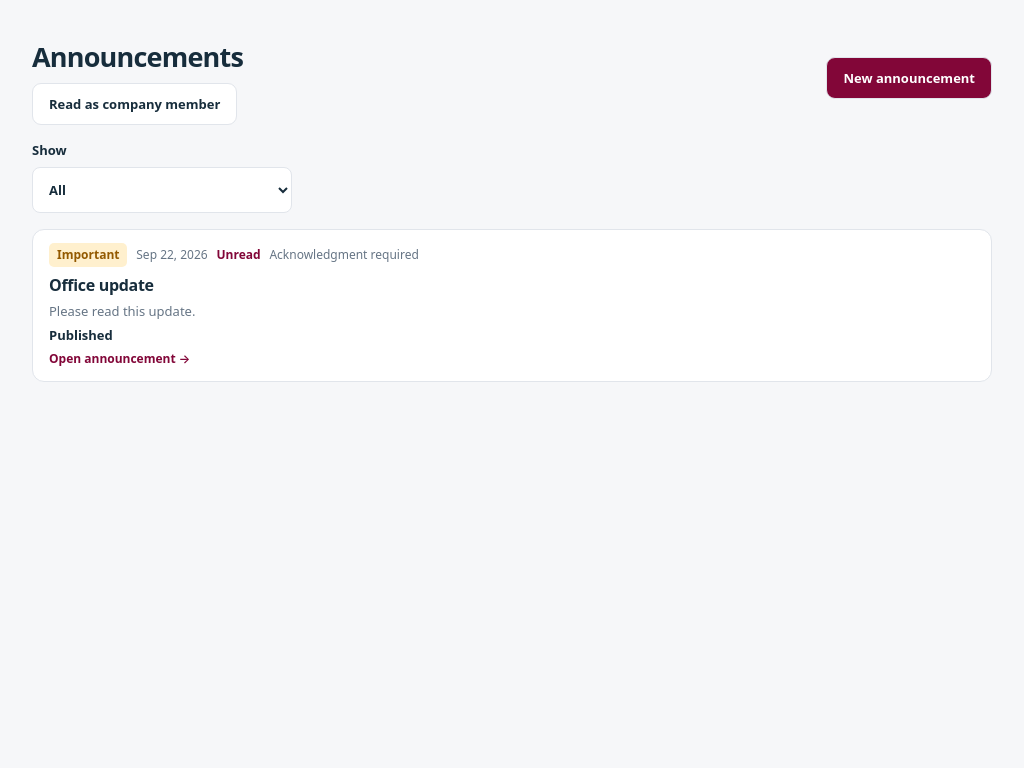
allows Admins to create drafts and see pending employees
This screenshot has width=1024, height=768.
Check: the button "Office update" is shown, box [32, 229, 992, 382]
Check: the button "Employee view" is not shown
Click the button "New announcement". click: [909, 78]
box: [826, 57, 992, 99]
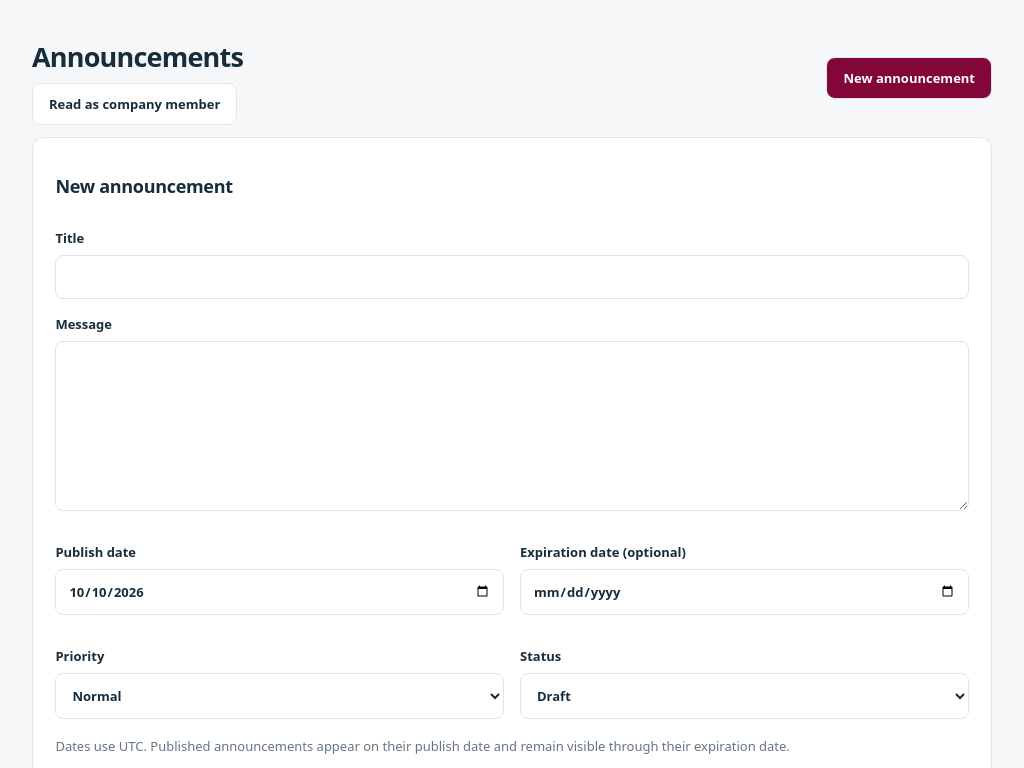
Type "New update" into the field labelled "Title". click: [512, 277]
box: [55, 255, 969, 299]
Type "Message for everyone" into the text box labelled "Message". click: [512, 426]
box: [55, 341, 969, 511]
(page scrolled)
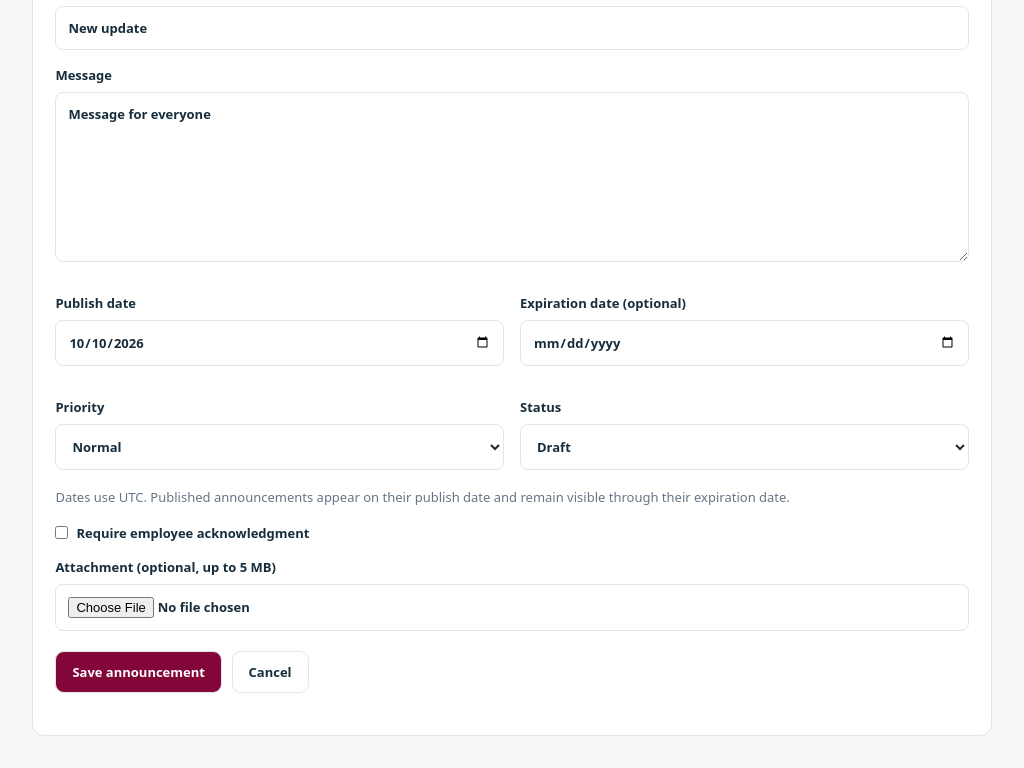
Click the checkbox labelled "Require employee acknowledgment". click: [62, 533]
box: [55, 526, 68, 539]
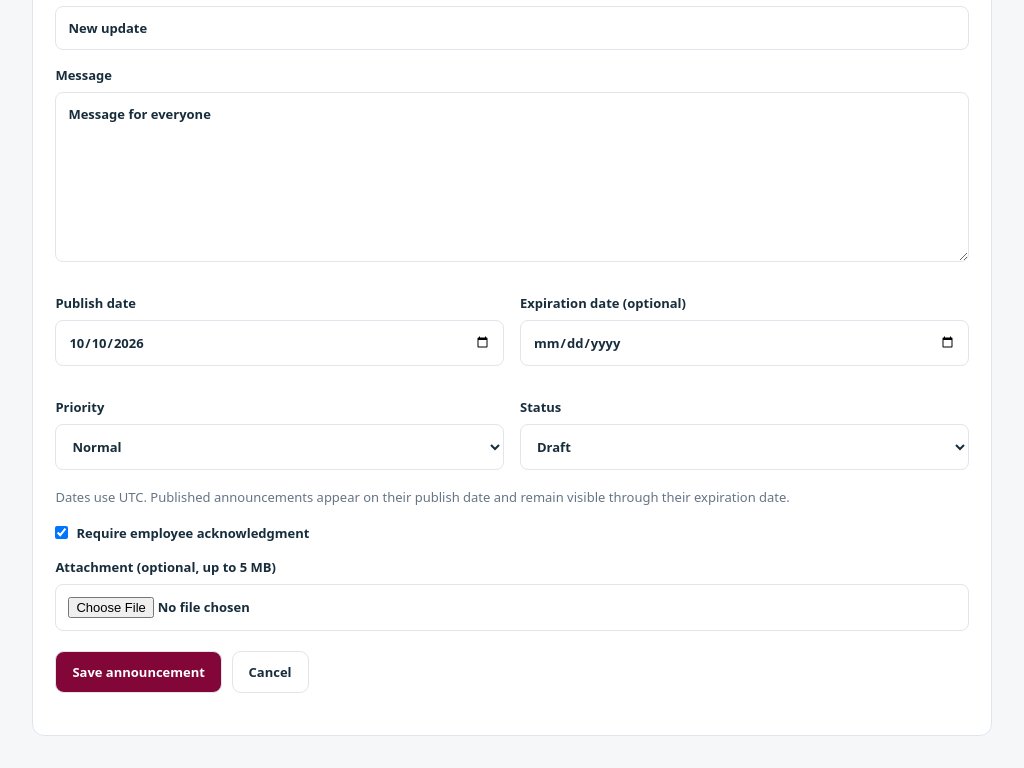
Click the button "Save announcement". click: [139, 672]
box: [55, 651, 222, 693]
(page scrolled)
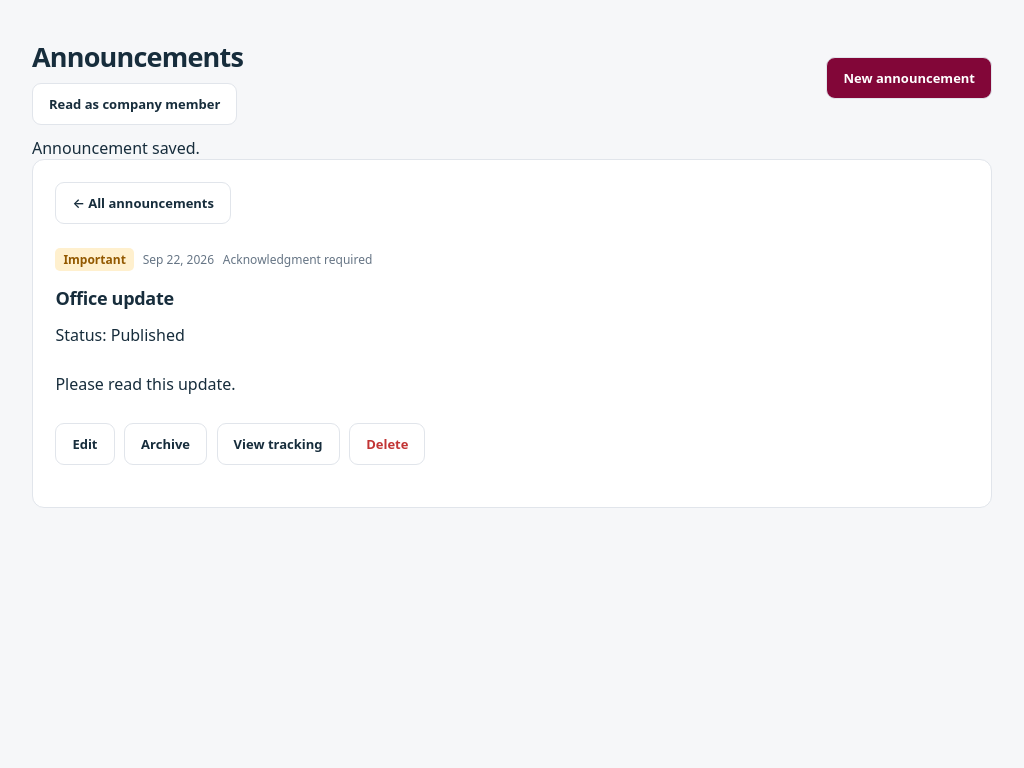
Click the button "View tracking". click: [278, 444]
box: [217, 423, 340, 465]
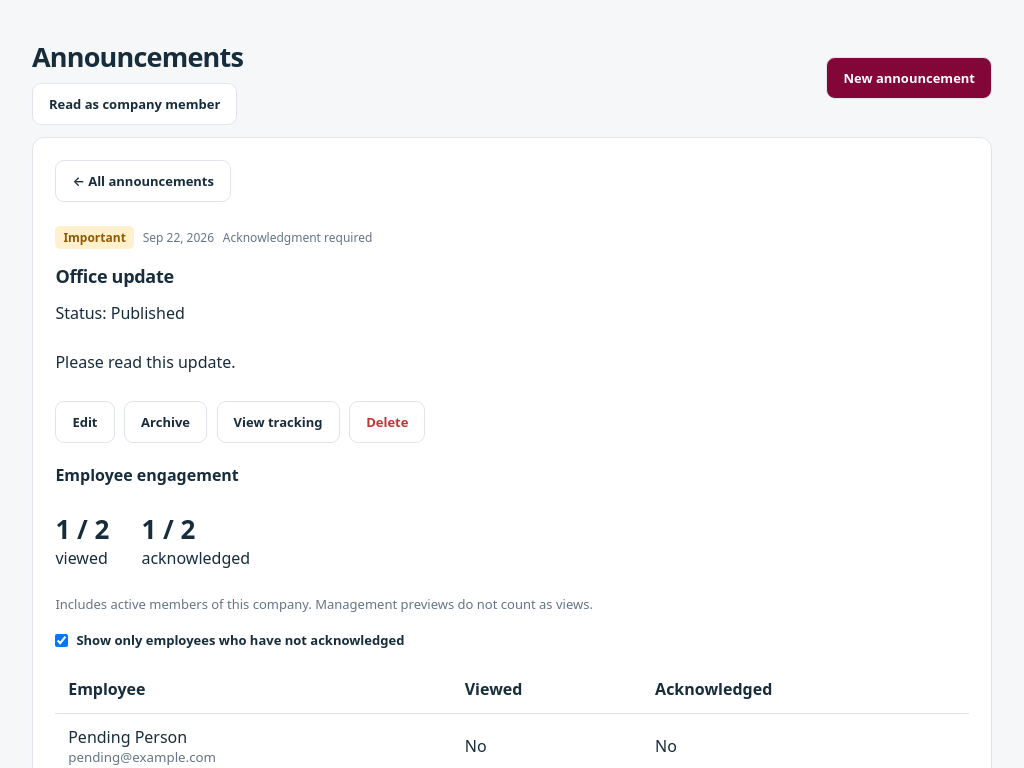
Check: the text "Done Person" is not shown
Check: the text "Pending Person" is shown, box [68, 726, 187, 748]
Click the checkbox labelled "Show only employees who have not acknowledged". click: [62, 640]
box: [55, 634, 68, 646]
(page scrolled)
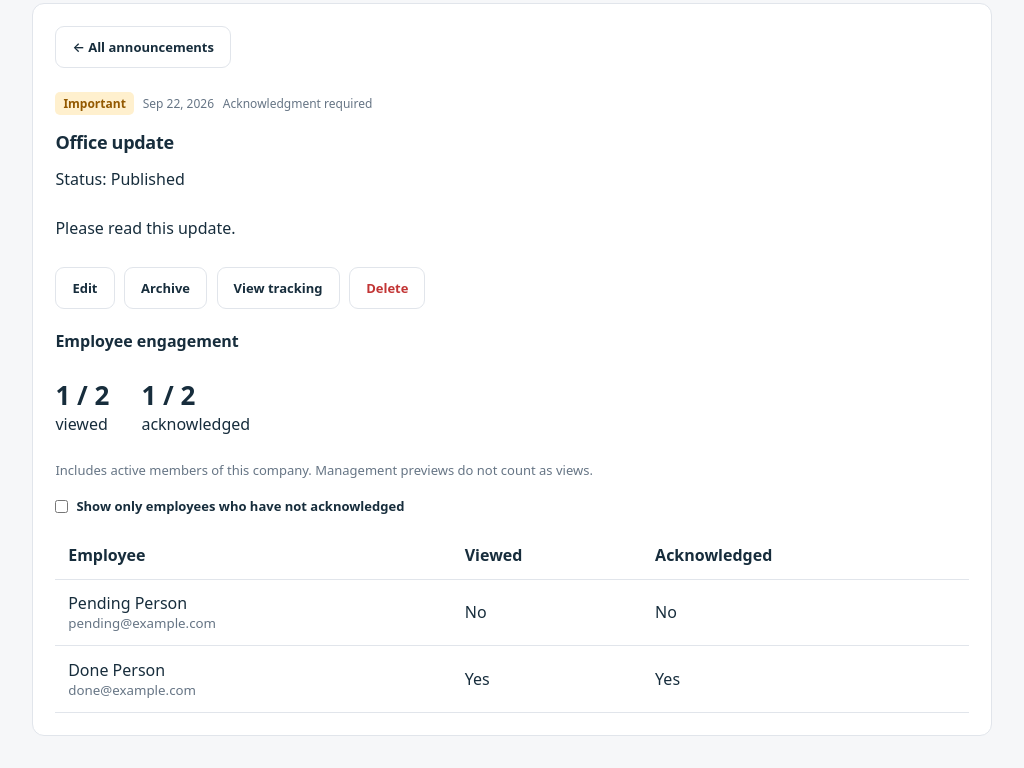
Check: the text "Done Person" is shown, box [68, 659, 165, 681]
